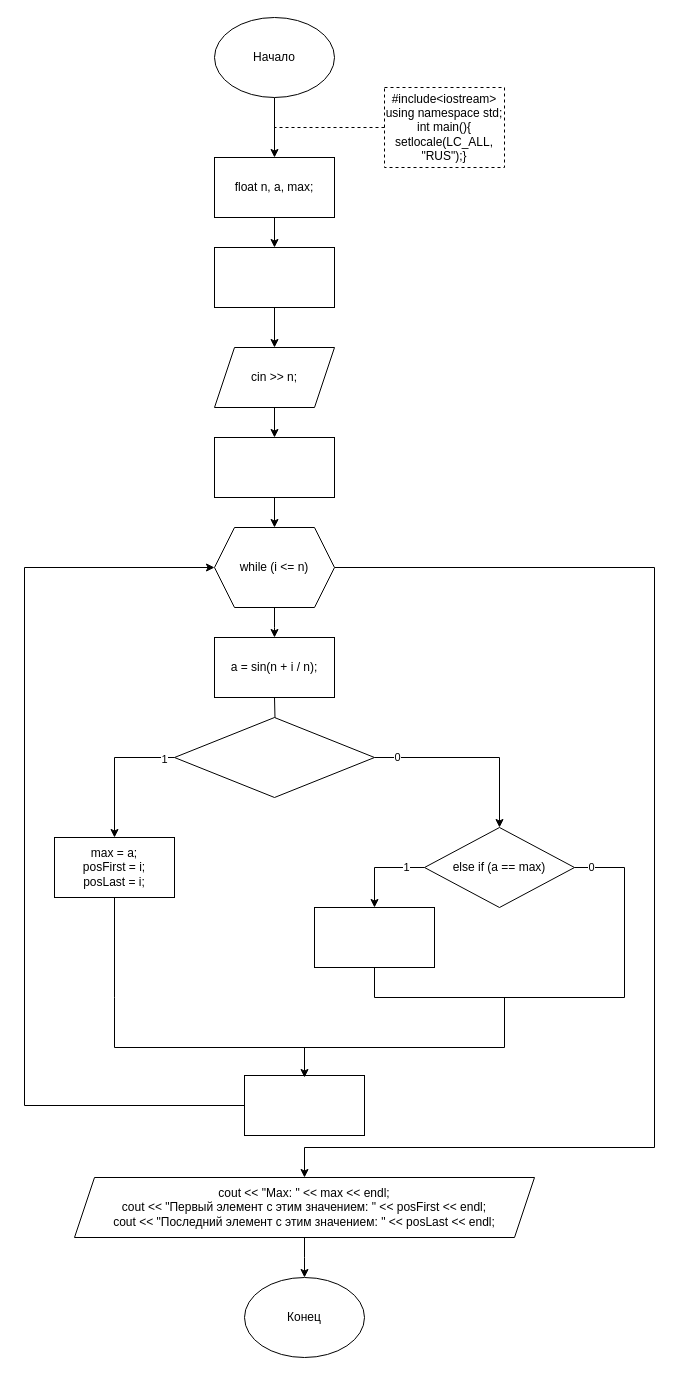
Image size: 680x1375. Some labels were removed from this diagram. The shapes that lost their labels are listed below. From the top down, each one's box as (x1, y1, x2, y2) in pixels, then its label:
(214, 246, 334, 308): int i = 2, posFirst = 1, posLast = 1;
(214, 436, 334, 498): max = sin(n + 1 / n);
(174, 716, 374, 798): if (a > max)
(314, 906, 434, 968): posLast = i;
(244, 1074, 364, 1136): i++;
